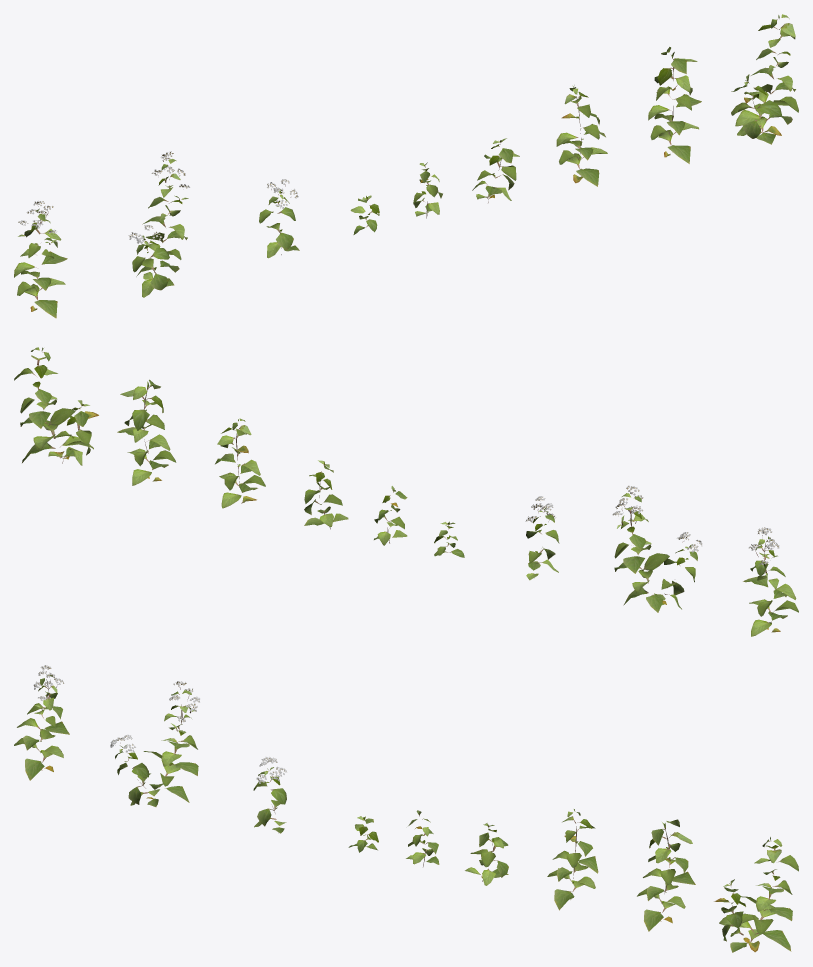
File: heath.glb
3 views of the same model, one above another, from view 1: azimuth 30°, elevation 25°; view 2: azimuth 150°, elevation 25°; view 3: azimuth 330°, elevation 25° (orthographic). The views are drawn at different scales.
Parts seen in each view (by area): view 1: shrub_01_a; view 2: shrub_01_a; view 3: shrub_01_a.
Part boxes in pixels (<box>): shrub_01_a: <box>14,14,798,318</box>; shrub_01_a: <box>14,347,798,636</box>; shrub_01_a: <box>14,665,798,952</box>.
Bounding box in the file's own units: 1 × 0.153 × 0.0848.
1 material, 1 textured.
